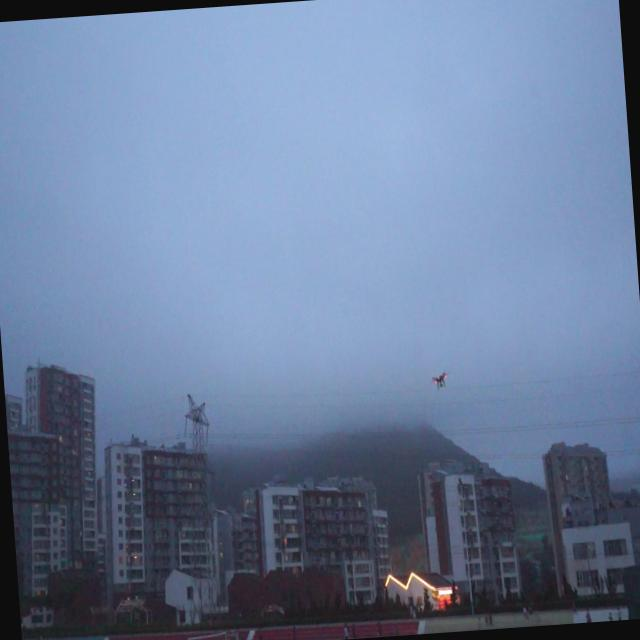drone: (430, 368, 450, 396)
